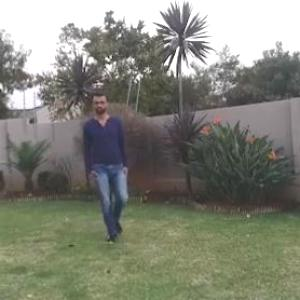follow: (90, 95, 132, 236)
